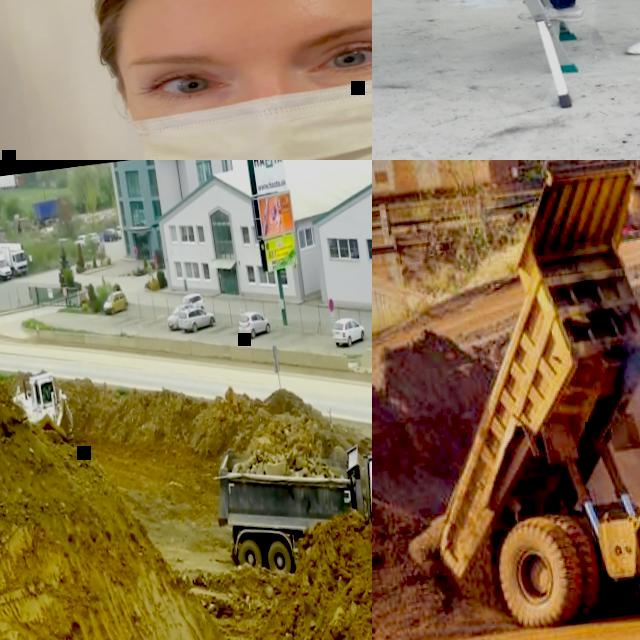machinery: (380, 160, 640, 640), (207, 423, 372, 586), (8, 366, 78, 456), (38, 219, 56, 241)
mask: (112, 20, 372, 160)
person: (0, 0, 372, 160), (452, 0, 640, 78)
vehicle: (176, 306, 218, 336), (330, 316, 367, 350), (0, 241, 30, 282), (236, 310, 272, 342), (166, 304, 197, 333), (101, 292, 129, 316), (180, 294, 206, 316), (0, 253, 13, 283), (100, 230, 119, 246), (86, 233, 102, 249), (74, 235, 90, 250), (115, 227, 122, 241)
